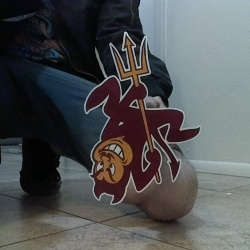sparky: (83, 30, 201, 205)
